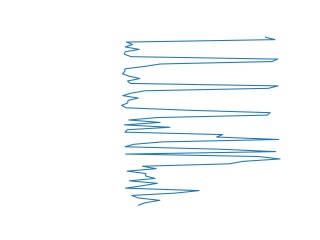crevasseRiverChannelBar: (118, 161, 263, 206)
majorRiverBedLagDeposit: (121, 120, 283, 164)
majorRiverChannelBar: (117, 35, 280, 118)
